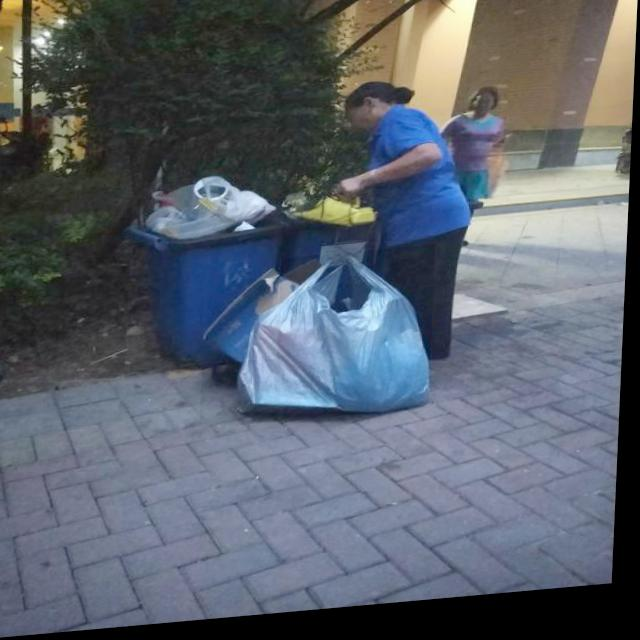garbage: (203, 253, 438, 433)
overflow: (128, 175, 287, 374)
